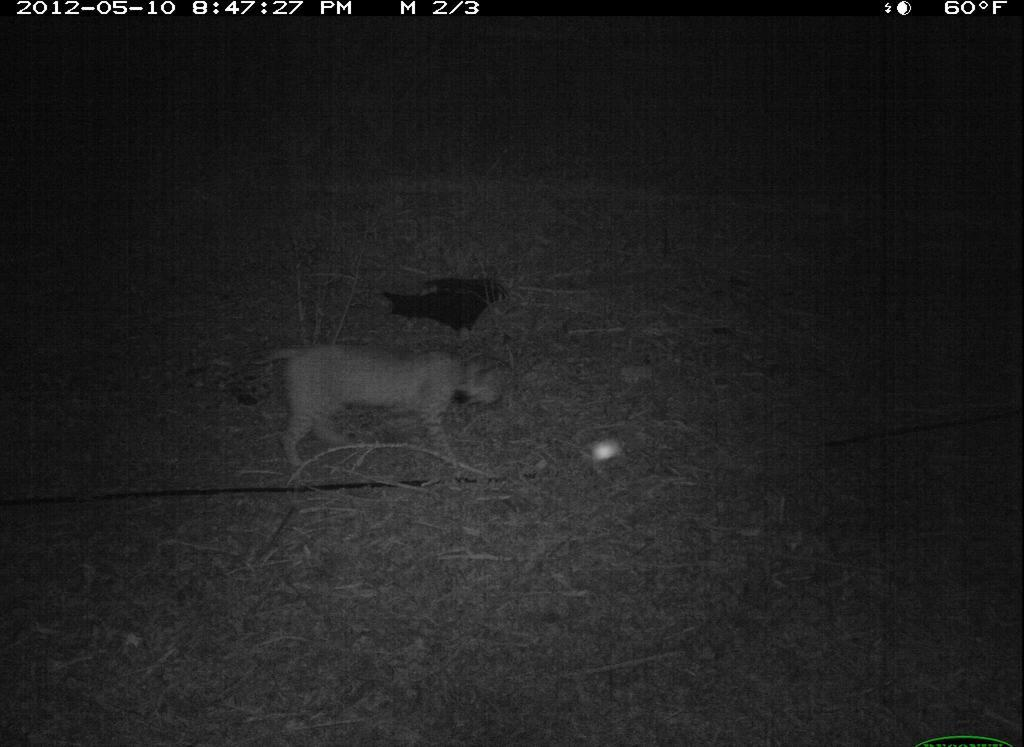bobcat: (257, 331, 536, 491)
